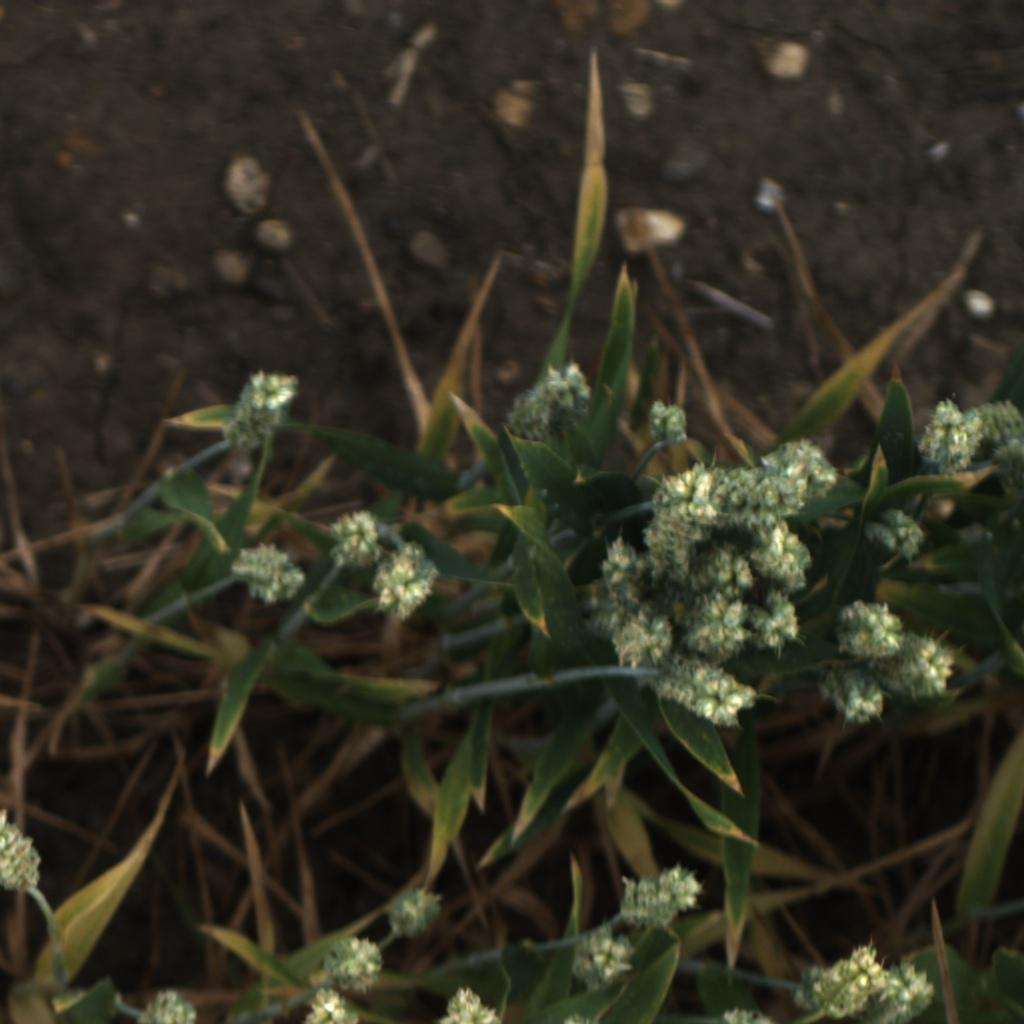0-0: (691, 455, 848, 526), (633, 466, 711, 596), (792, 940, 894, 1023), (506, 358, 597, 449), (658, 662, 753, 739), (222, 368, 310, 450), (577, 527, 650, 624), (617, 860, 710, 933), (873, 627, 961, 701), (370, 542, 445, 623), (745, 515, 822, 593), (224, 542, 312, 608), (914, 395, 985, 476), (567, 926, 643, 996), (682, 537, 759, 605), (864, 961, 947, 1024), (0, 796, 50, 895), (324, 501, 394, 569), (832, 600, 904, 665), (768, 433, 839, 498), (376, 877, 448, 941), (957, 398, 1024, 466), (317, 930, 392, 990), (683, 597, 753, 660), (750, 588, 809, 658), (861, 509, 935, 564), (606, 606, 676, 664), (633, 391, 700, 451), (816, 673, 887, 728), (436, 978, 508, 1024), (299, 984, 371, 1024), (134, 985, 203, 1024), (720, 1001, 780, 1024), (557, 1012, 602, 1024)
